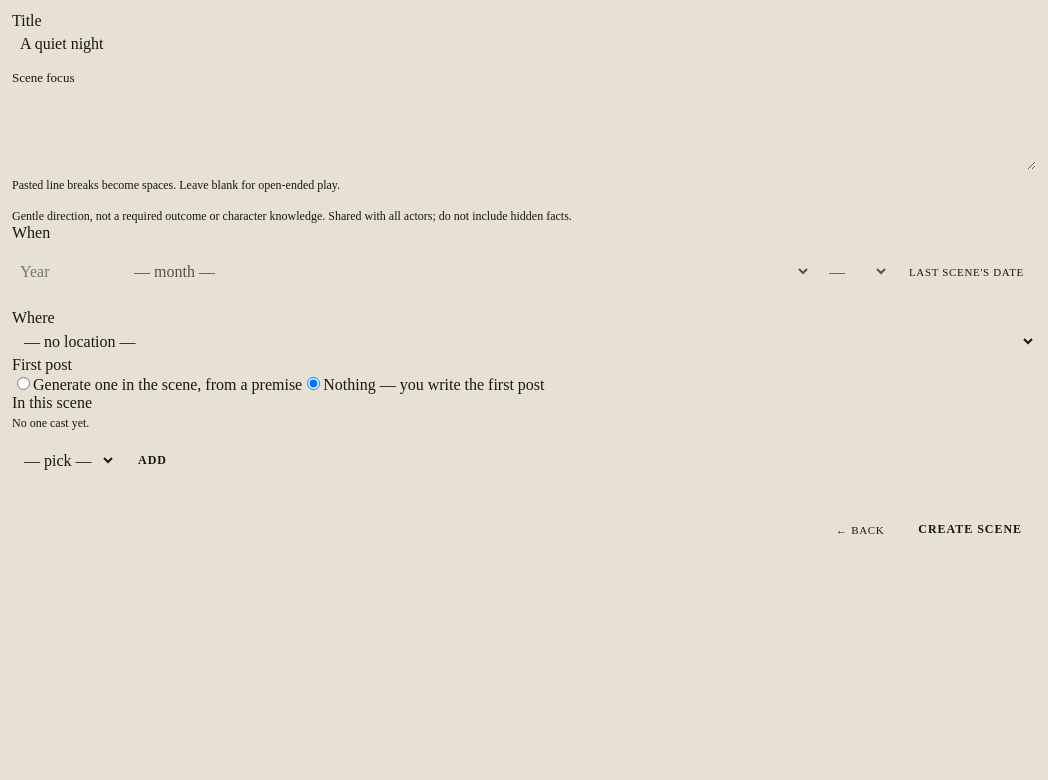
Test: the fill wins over a half-typed date the picker would otherwise protect
Type "1999" into the number field named "Scene date year" at (64, 272), box [12, 254, 116, 289]
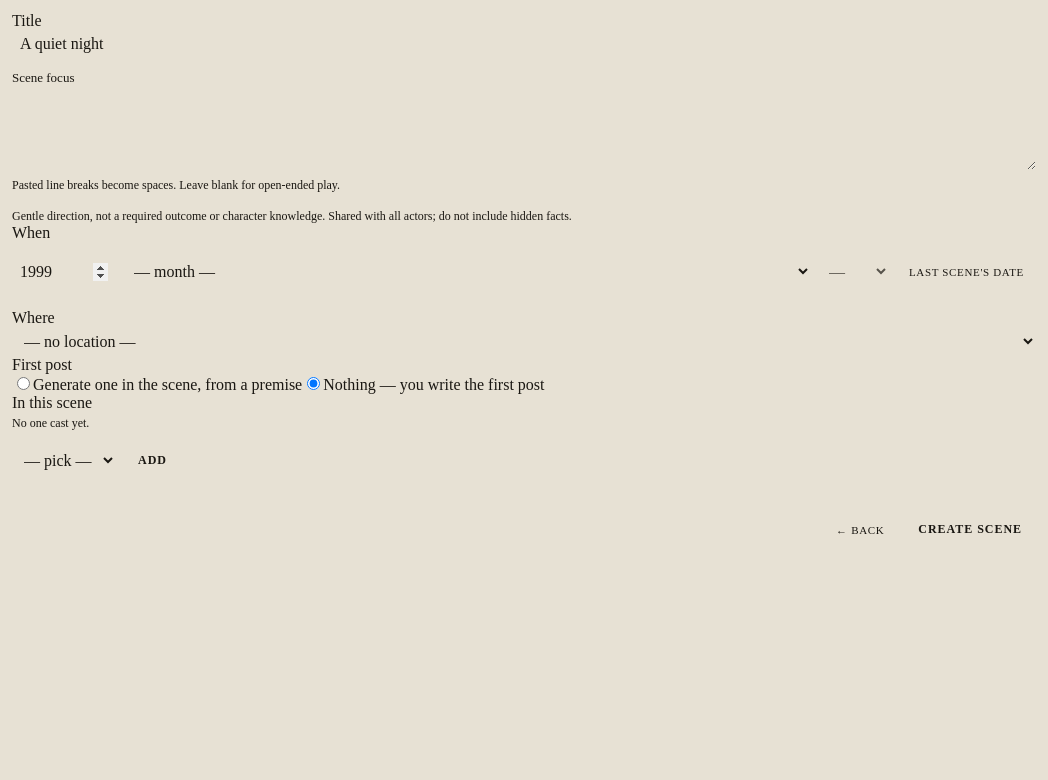
Click the button "Last scene's date" at (966, 272), box [897, 254, 1036, 289]
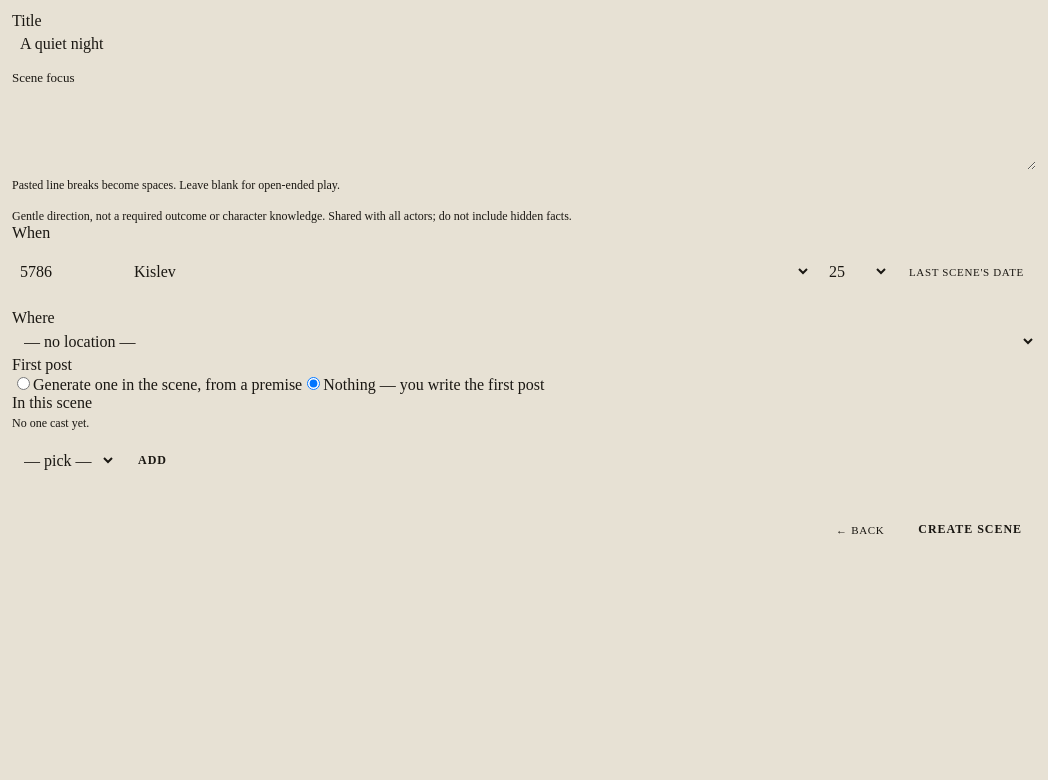
Result: the number field named "Scene date year" holds "5786" at [12, 254, 116, 289]
Result: the dropdown named "Scene date month" shows "Kislev" at [122, 254, 811, 289]
Result: the dropdown named "Scene date day" shows "25" at [817, 254, 889, 289]
